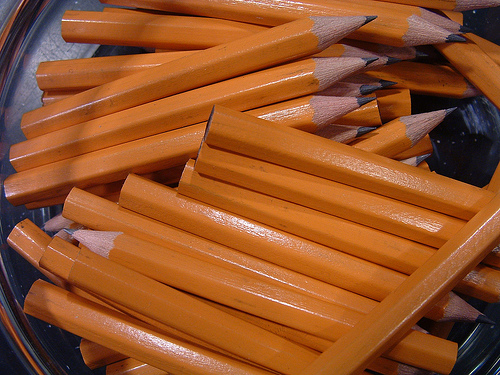pen_tip: (299, 11, 388, 51)
